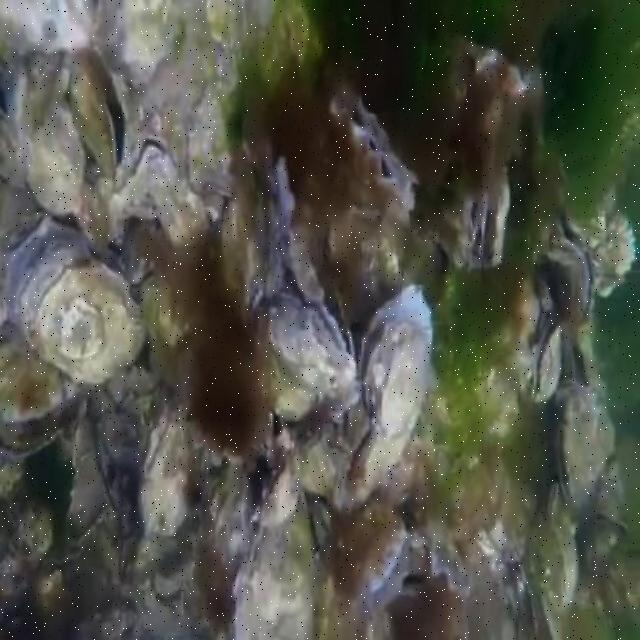Oyster-Closed: (235, 487, 318, 638), (21, 98, 89, 214), (187, 85, 250, 195), (138, 405, 188, 528), (0, 0, 91, 52), (469, 162, 511, 269), (595, 213, 635, 294), (597, 475, 631, 532), (521, 274, 543, 345)
Oyster-Open: (8, 226, 147, 379), (335, 289, 431, 505), (330, 80, 421, 222), (258, 294, 354, 420), (213, 159, 291, 314), (110, 134, 206, 253), (0, 341, 82, 456), (332, 504, 410, 614), (554, 387, 614, 516), (537, 204, 594, 331), (70, 45, 126, 172), (417, 520, 470, 595), (548, 485, 579, 604), (531, 321, 564, 405), (403, 572, 430, 595)
